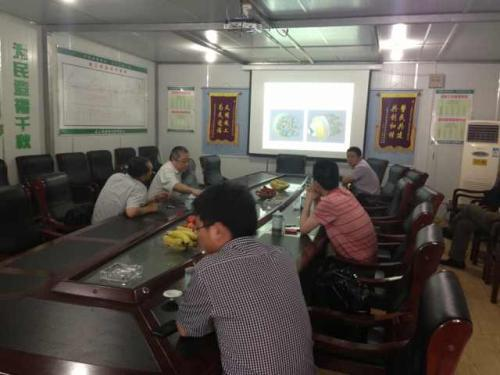head: (191, 176, 255, 258), (309, 155, 343, 201), (129, 153, 157, 187), (172, 146, 193, 178), (347, 146, 367, 168)
